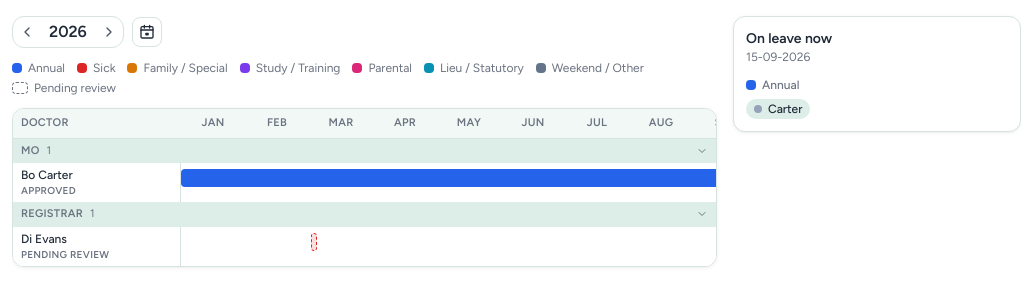
Scenario: LeaveMatrix › navigates years
Expected: the button "2026" is shown, [41,20,95,44]
Step 1. Click the button named "Next year" → (109, 32), box [95,17,123,47]
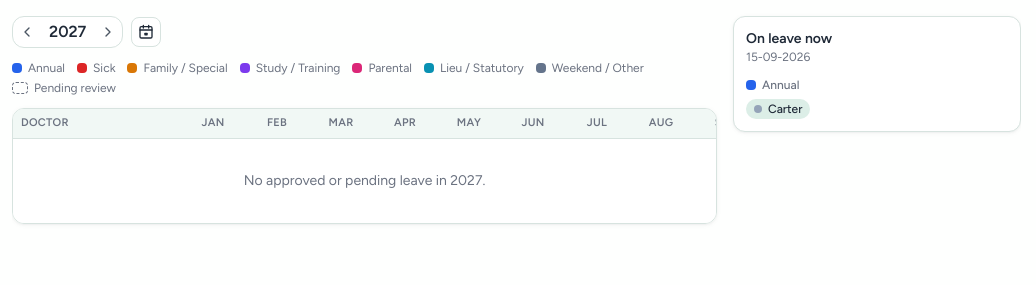
Expected: the button "2027" is shown, [41,20,94,44]
